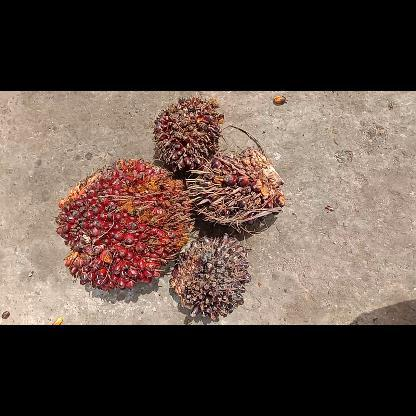TBS abnormal: (184, 148, 288, 230), (166, 233, 254, 323), (150, 94, 224, 172)
TBS masak: (54, 156, 192, 292)
